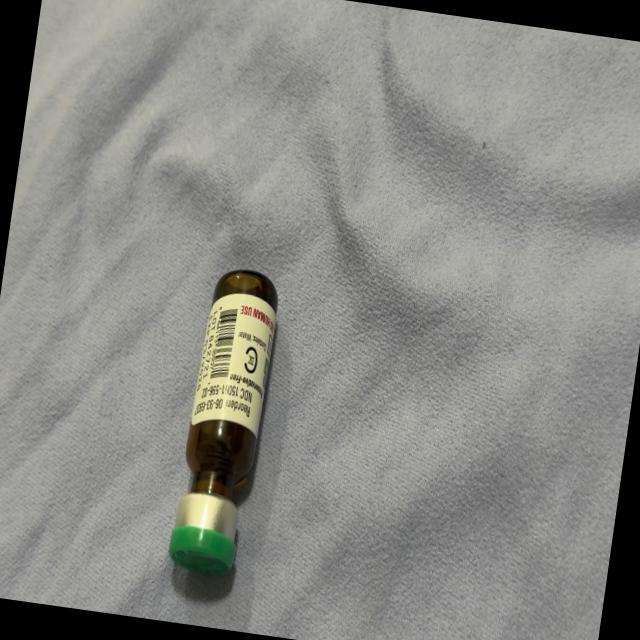midazolm: (168, 270, 282, 575)
